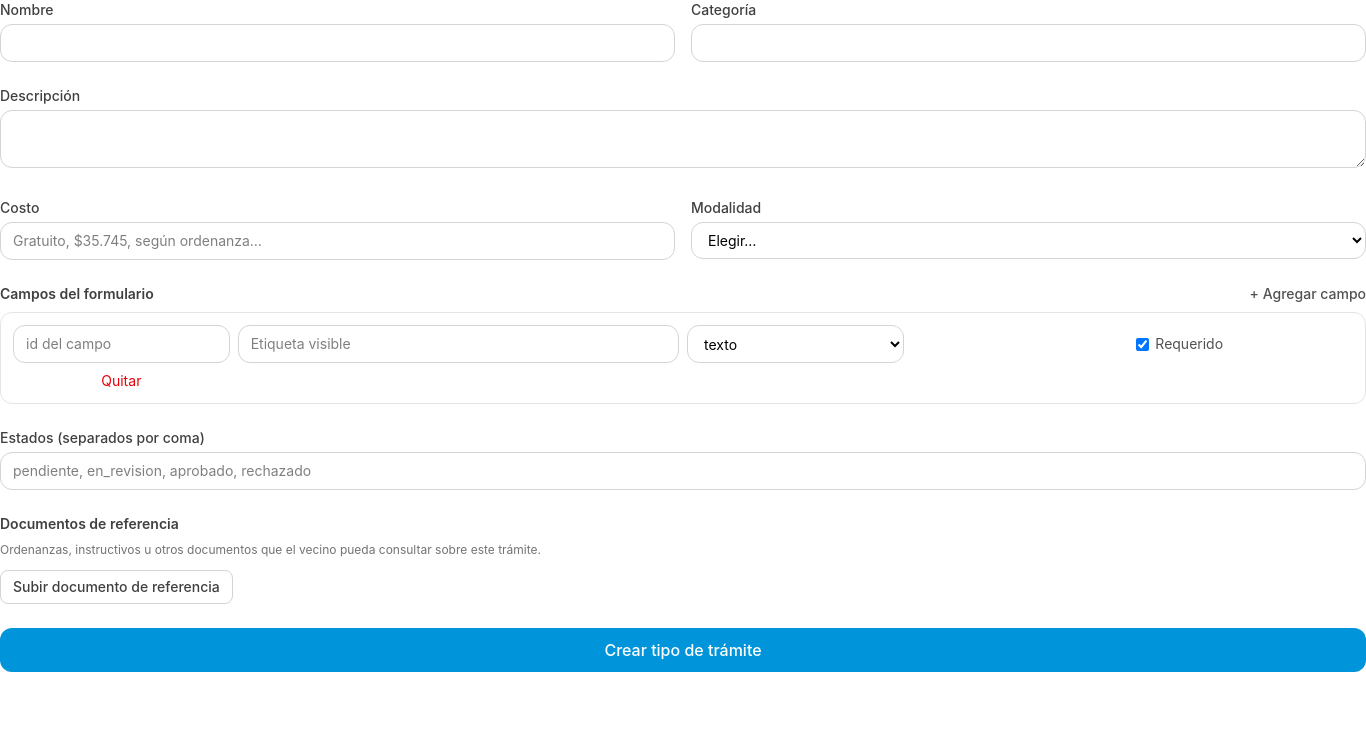
Test case: FormularioTipoTramite › permite quitar un campo agregado
The image size is (1366, 733).
What coordinates should you click on to do the following:
click the button "+ Agregar campo"
I would click on:
 (1308, 294)
Its box is [1250, 284, 1365, 304].
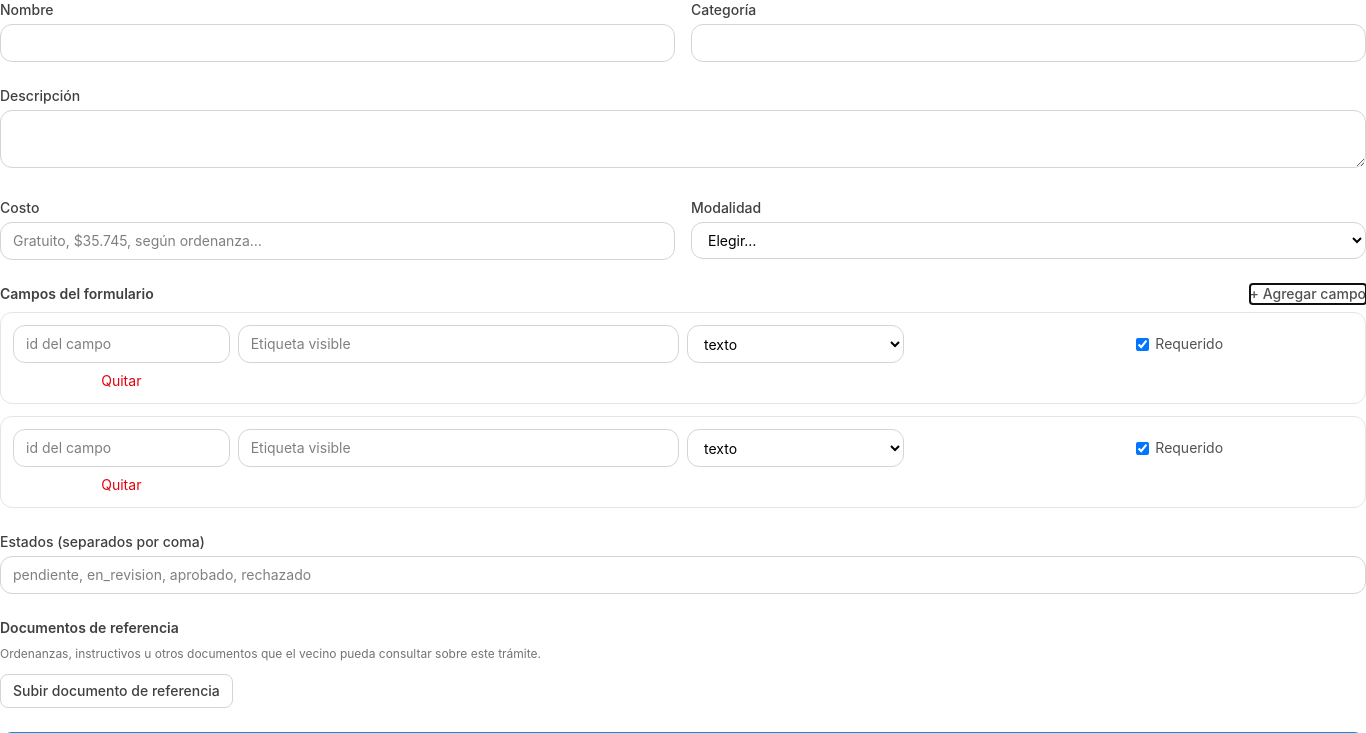
What coordinates should you click on to do the following:
click the 1st button "Quitar"
I would click on:
 (121, 381)
Its box is [13, 371, 230, 391].
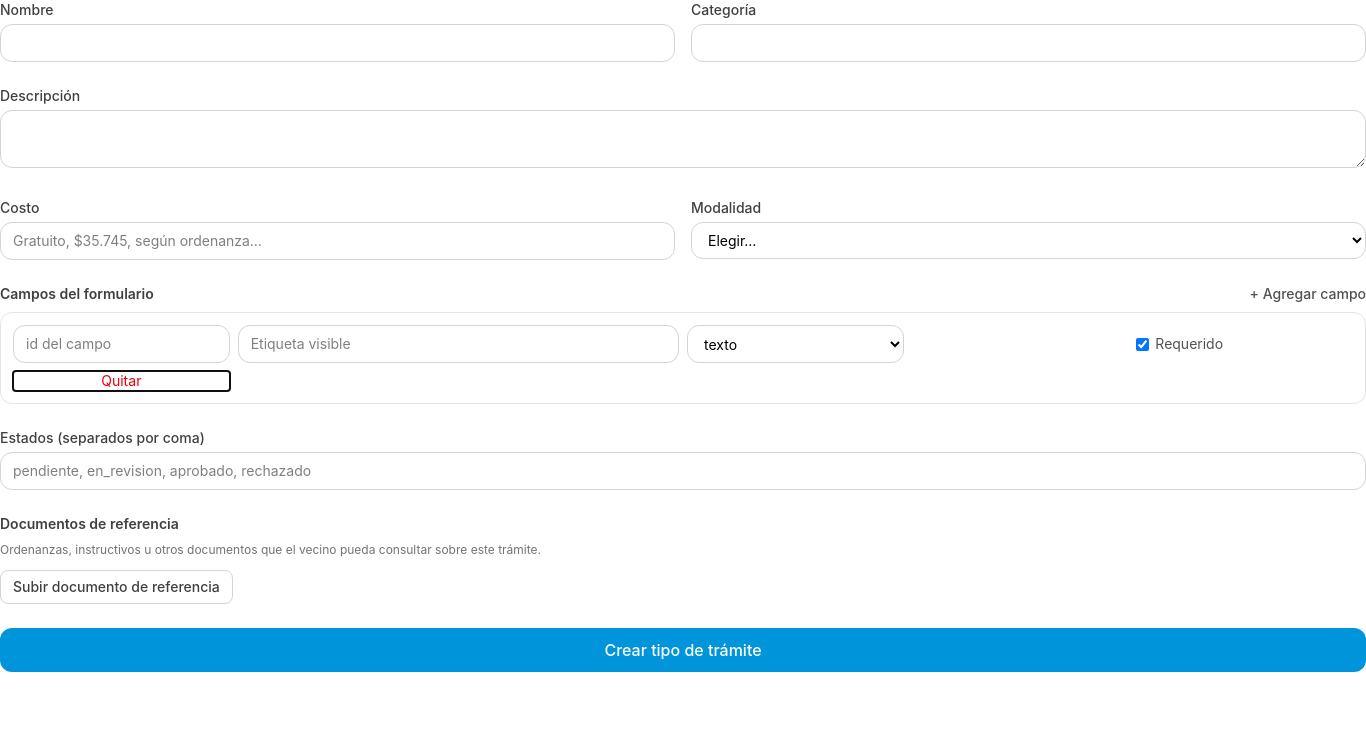
Expected: the number of fields with placeholder "id del campo" is 1, [13, 325, 230, 363]
